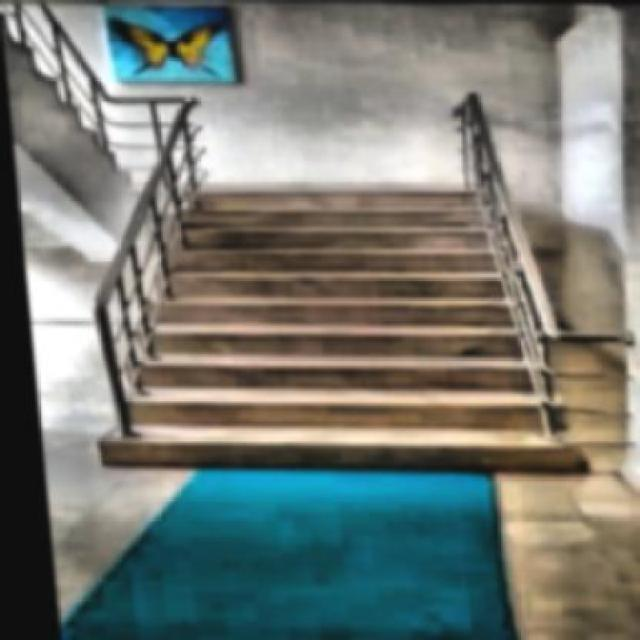stair: (90, 189, 576, 477)
